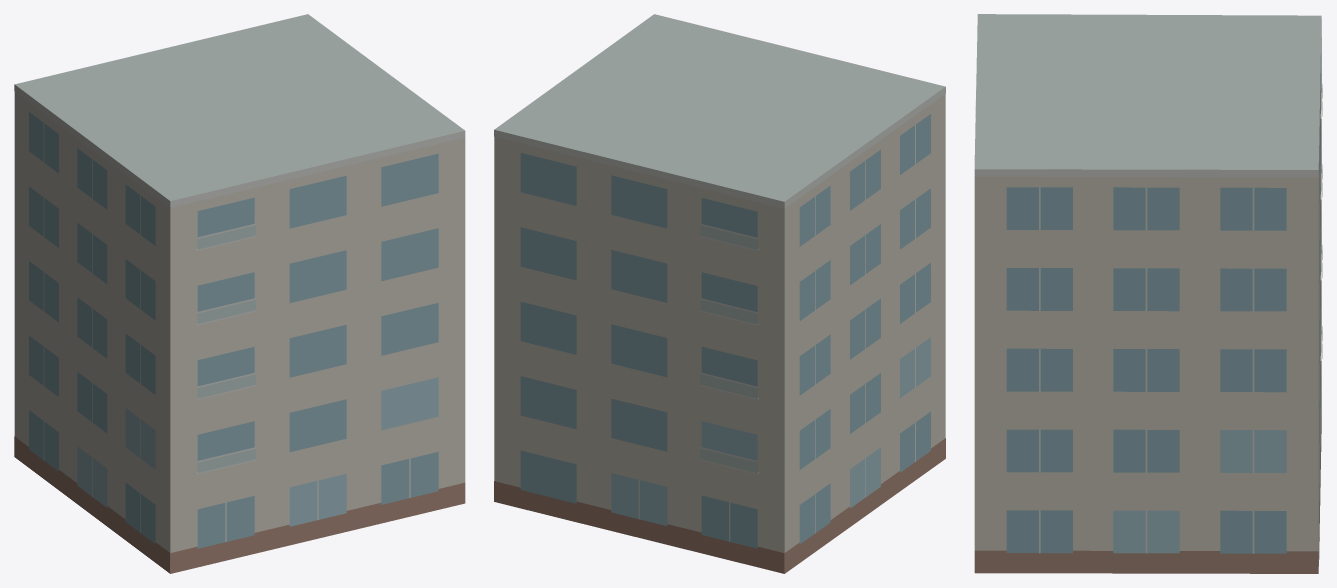
Rendered from survey-upis-32951695.glb.
3 views of the same model, side by side, from view 1: azimuth 30°, elevation 25°; view 2: azimuth 150°, elevation 25°; view 3: azimuth 270°, elevation 25° (orthographic). The views are drawn at different scales.
Visible parts, largest first — view 1: survey-upis-32951695.tmp; view 2: survey-upis-32951695.tmp; view 3: survey-upis-32951695.tmp.
Boxes of the visible parts, x1=… form: survey-upis-32951695.tmp: x1=14, y1=14, x2=465, y2=573; survey-upis-32951695.tmp: x1=494, y1=14, x2=945, y2=573; survey-upis-32951695.tmp: x1=974, y1=14, x2=1322, y2=573.
Bounding box in the file's own units: 10.95 × 13.2 × 10.32.
